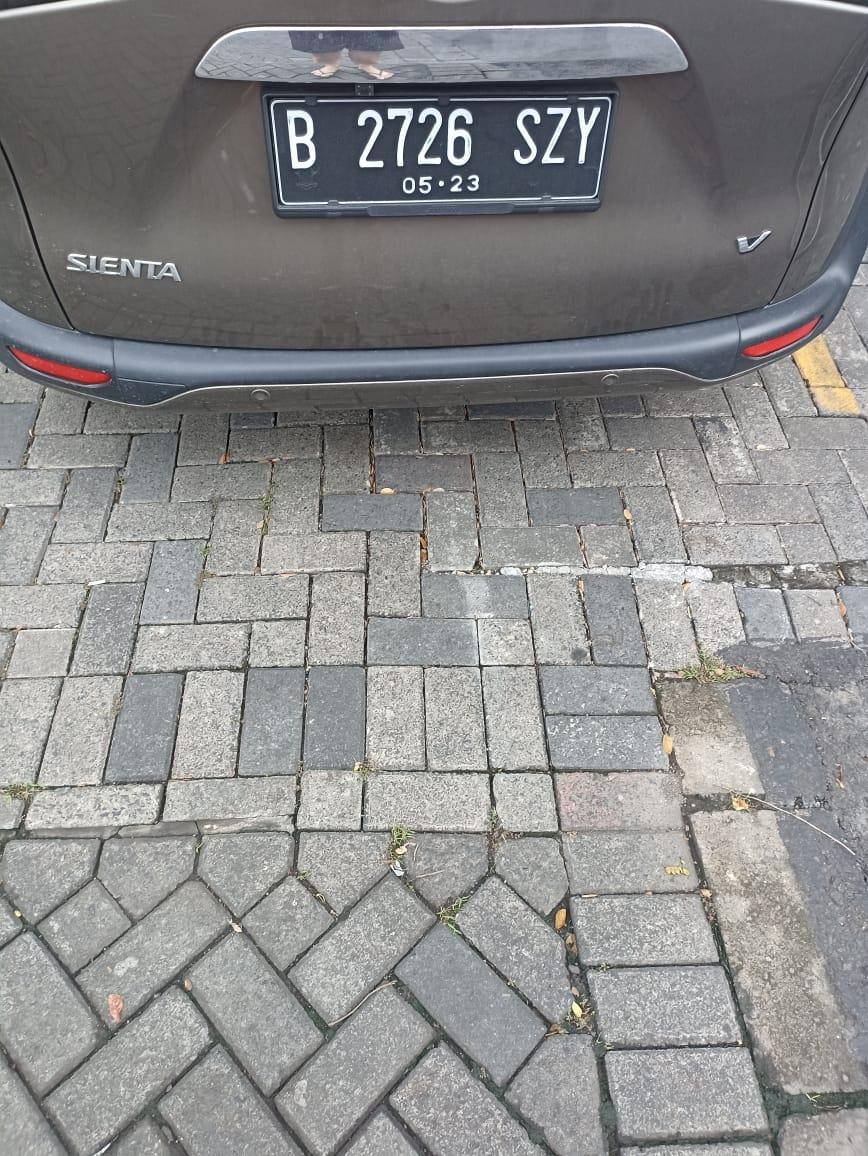plat: (264, 90, 616, 217)
